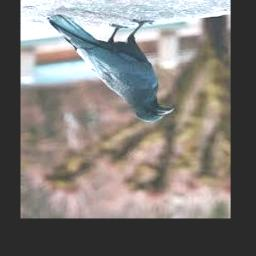Crow: (45, 15, 174, 123)
